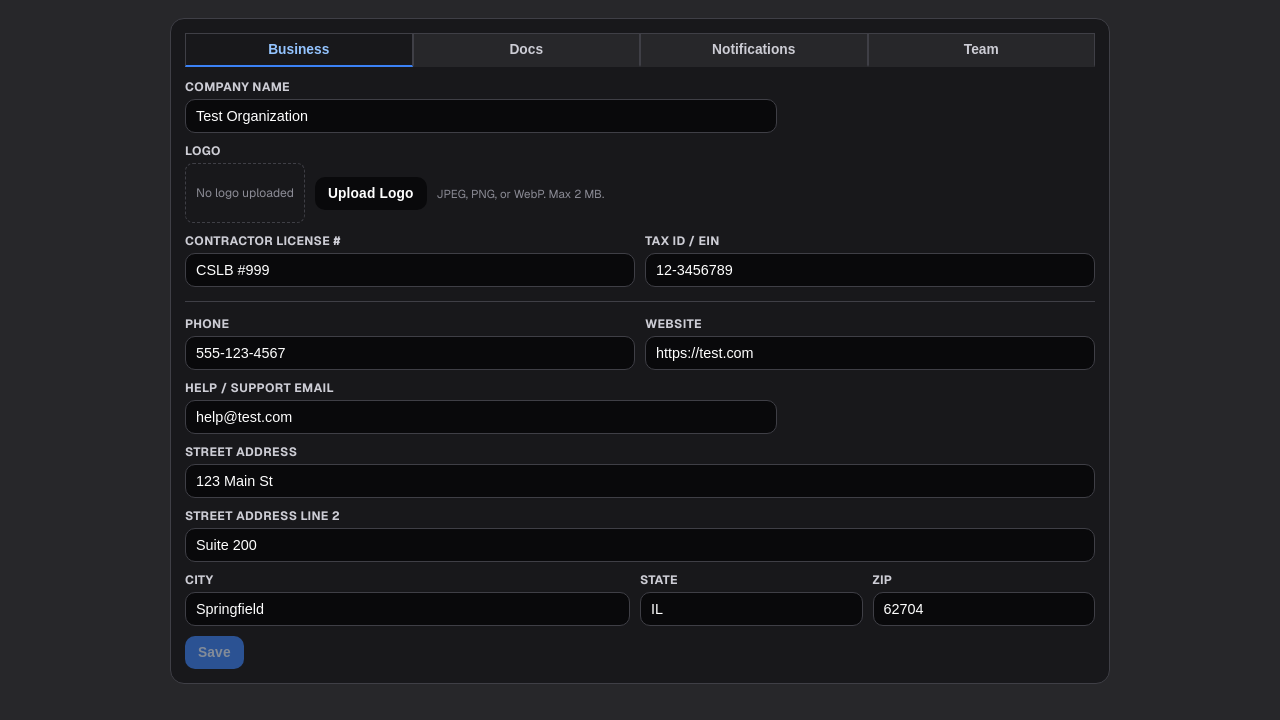
Test: OrganizationConsole › switches to Docs tab and renders quote fields by default
Expected: the text "Company Name" is shown, top-left (185, 79), bottom-right (290, 95)
Click the button "Docs": (526, 50) top-left (412, 33), bottom-right (640, 67)
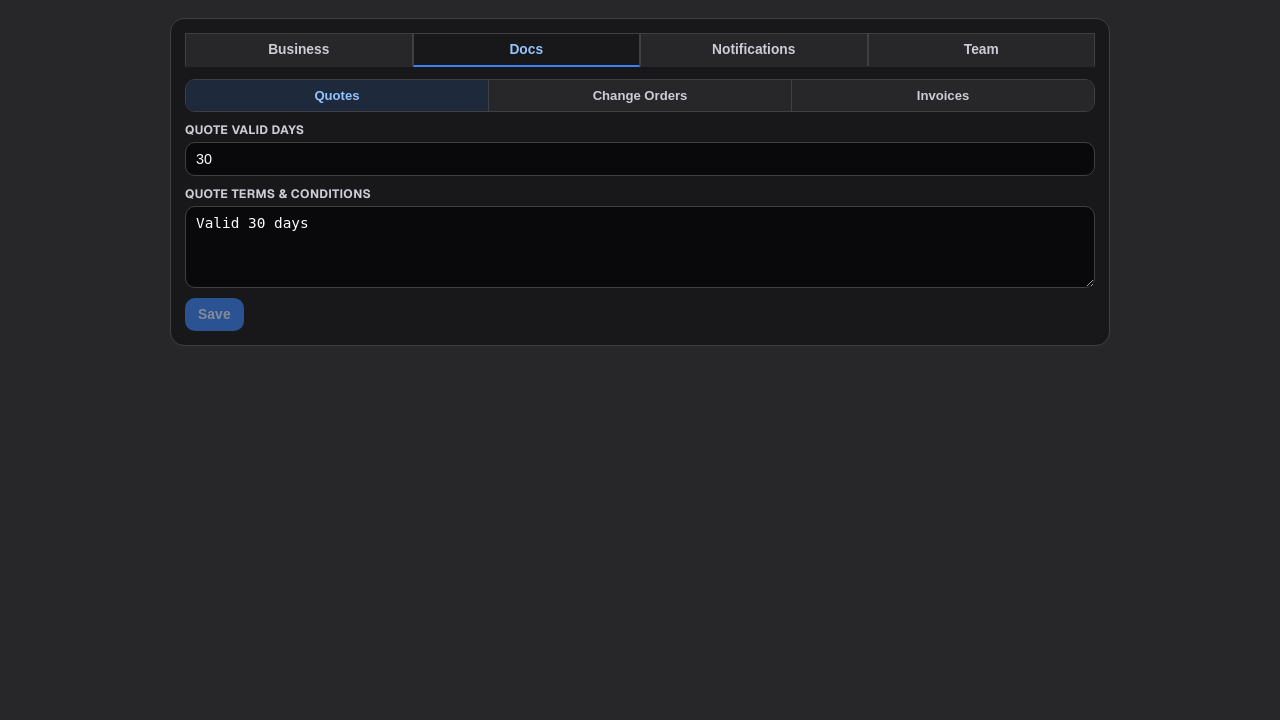
Now the text "Quote Valid Days" is shown, box top-left (185, 122), bottom-right (304, 138)
